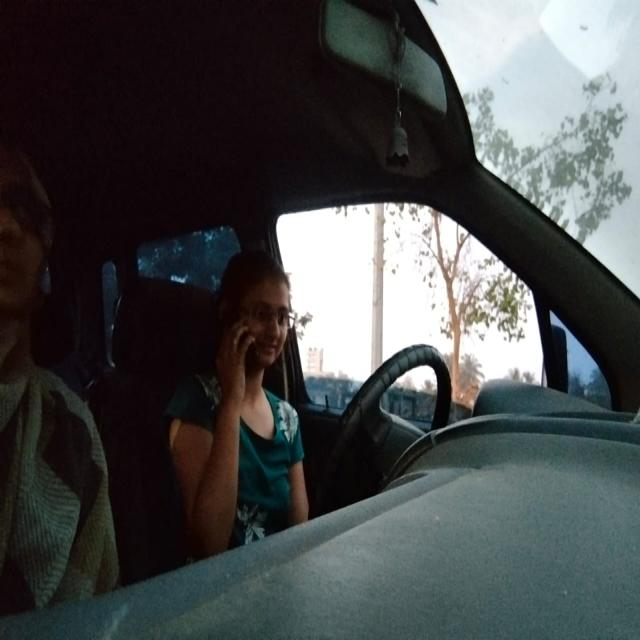mobile: (214, 304, 258, 370)
person: (0, 140, 57, 331), (226, 266, 300, 374)
